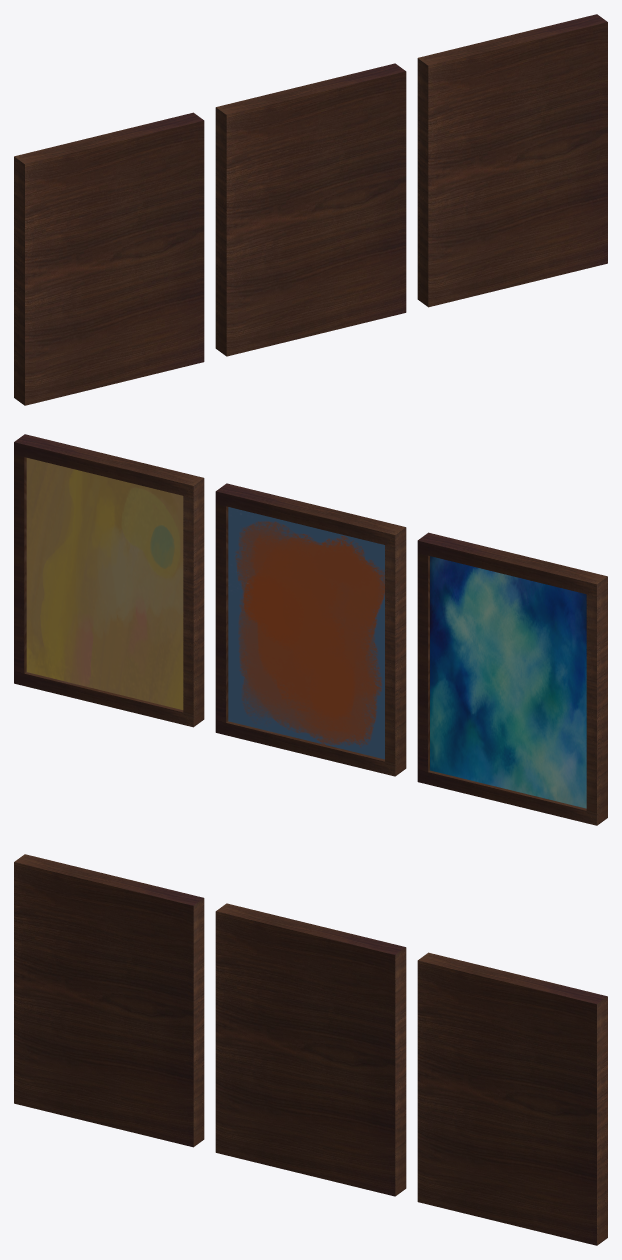
File: CUADROS 1.fbx
3 renders of one model, top to bottom at view 1: azimuth 30°, elevation 25°; view 2: azimuth 150°, elevation 25°; view 3: azimuth 330°, elevation 25°, orthographic.
Visible parts, largest first — view 1: Cuadro1, Cuadro3, Cuadro2; view 2: Cuadro1, Cuadro3, Cuadro2; view 3: Cuadro1, Cuadro3, Cuadro2.
Boxes of the visible parts, x1,y1,x2,y2 form: Cuadro1: [215, 63, 406, 356]; Cuadro3: [14, 112, 204, 405]; Cuadro2: [417, 14, 607, 307]; Cuadro1: [215, 483, 406, 776]; Cuadro3: [417, 532, 607, 825]; Cuadro2: [14, 434, 204, 727]; Cuadro1: [215, 903, 406, 1196]; Cuadro3: [14, 854, 204, 1147]; Cuadro2: [417, 952, 607, 1245].
Bounding box in the file's own units: 2316 × 916 × 75.04.
Materials: 4 (4 with a texture image).
